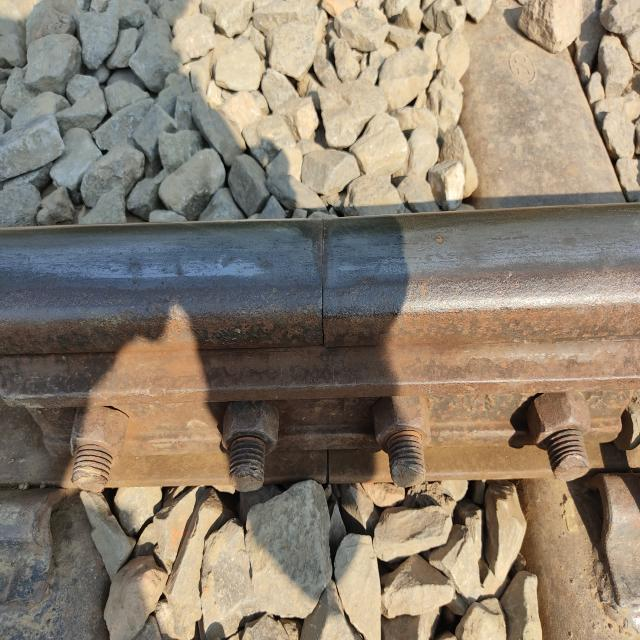non-defective: (162, 206, 456, 434)
